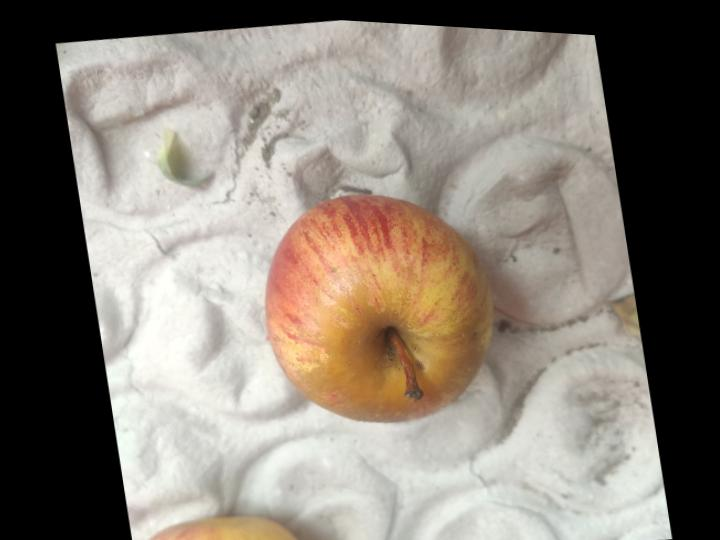apple: (266, 194, 493, 421)
bruise_discoloration: (294, 258, 488, 420)
